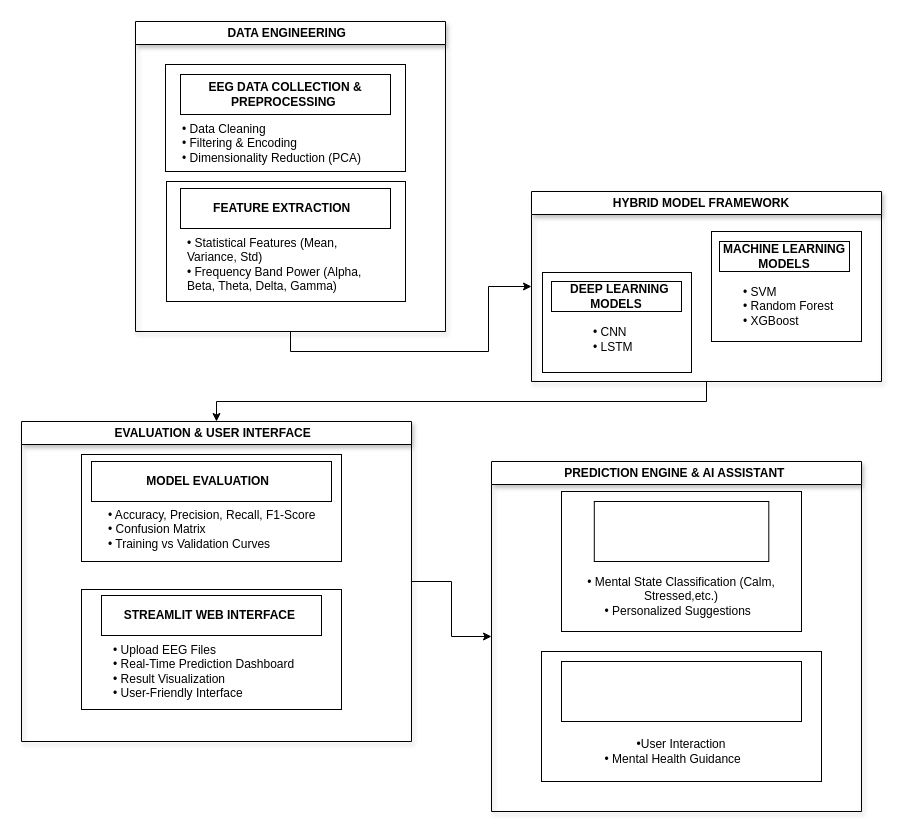
Image size: 909x836. Some labels were removed from this diagram. The shapes that lost their labels are listed below. From the top down, each one's centre as x and y in pixels, then its label:
pixel 681 531: PREDICTION ANALYSIS
pixel 681 691: AI CHAT ASSISTANT / MENTAL HEALTH COMPANION
